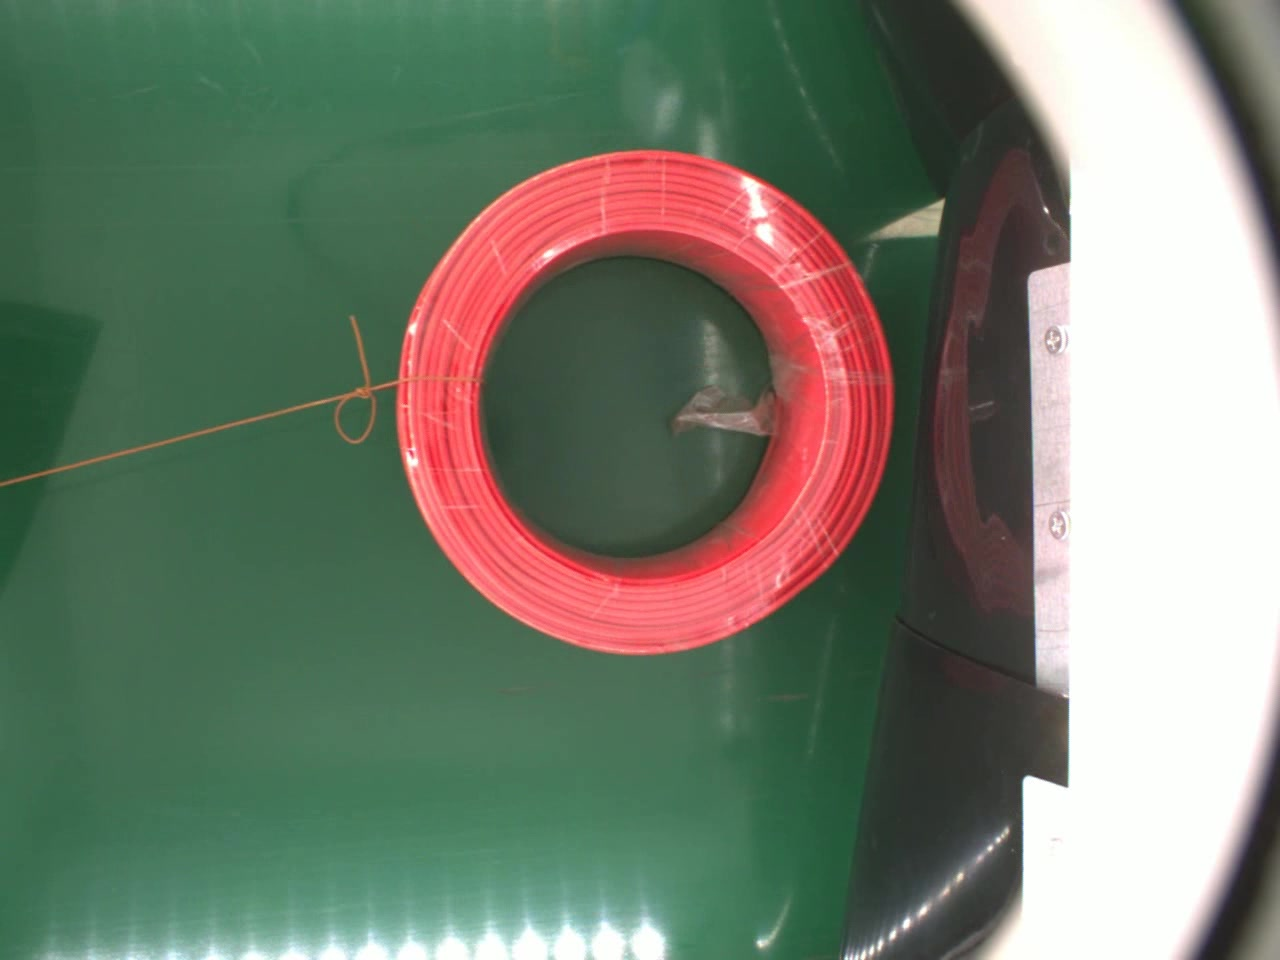red: (380, 135, 906, 661)
